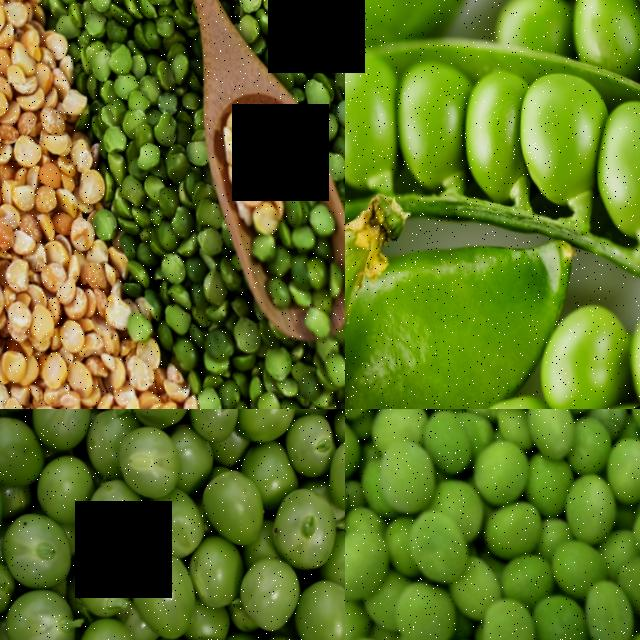peas: (439, 0, 640, 409), (0, 409, 345, 640), (345, 409, 640, 640), (100, 132, 316, 409), (501, 0, 640, 339), (15, 0, 218, 162), (279, 5, 345, 409), (345, 9, 474, 215), (167, 0, 345, 67)
